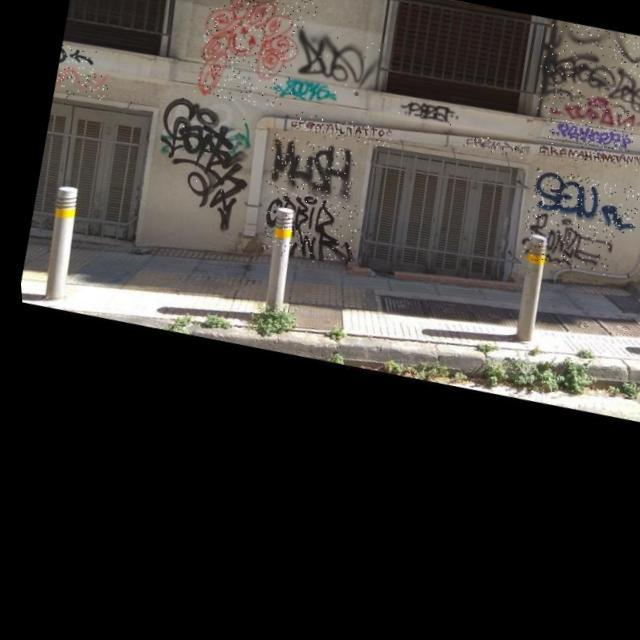-: (134, 91, 266, 242), (526, 20, 640, 151), (185, 0, 311, 118), (250, 186, 362, 276), (522, 169, 640, 246), (286, 27, 391, 108), (259, 133, 358, 209), (512, 212, 614, 285), (534, 137, 640, 188), (544, 90, 640, 145), (286, 109, 394, 157), (544, 120, 632, 164), (173, 0, 325, 25), (268, 75, 339, 114), (459, 134, 531, 168), (51, 63, 110, 104), (395, 100, 458, 134), (56, 44, 98, 74)
